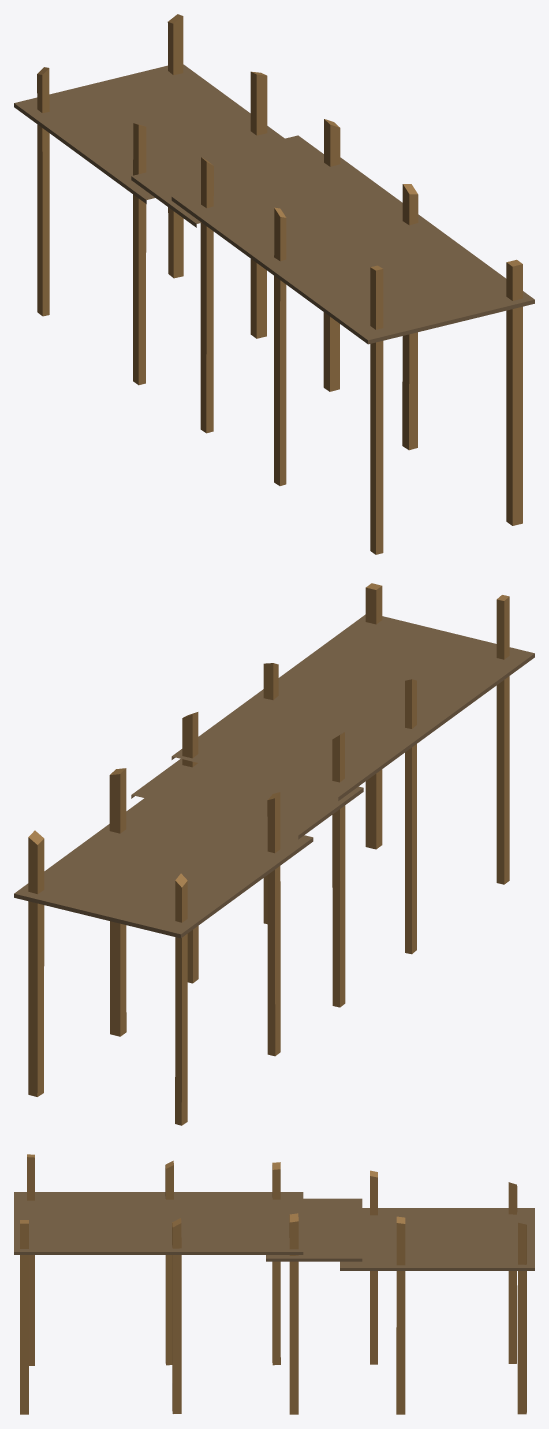
File: StairsDock.fbx
3 renders of one model, top to bottom at view 1: azimuth 30°, elevation 25°; view 2: azimuth 150°, elevation 25°; view 3: azimuth 270°, elevation 25°, orthographic. The views are drawn at different scales.
Visible parts, largest first — view 1: StairsDock, Cube.010; view 2: StairsDock, Cube.010; view 3: StairsDock, Cube.010.
Part boxes in pixels (x1,y1,x2,y2): StairsDock: [14, 64, 534, 344]; Cube.010: [37, 14, 522, 554]; StairsDock: [14, 614, 534, 938]; Cube.010: [28, 583, 509, 1125]; StairsDock: [14, 1192, 534, 1270]; Cube.010: [20, 1154, 526, 1414].
Bounding box in the file's own units: 439 × 714 × 1612.
